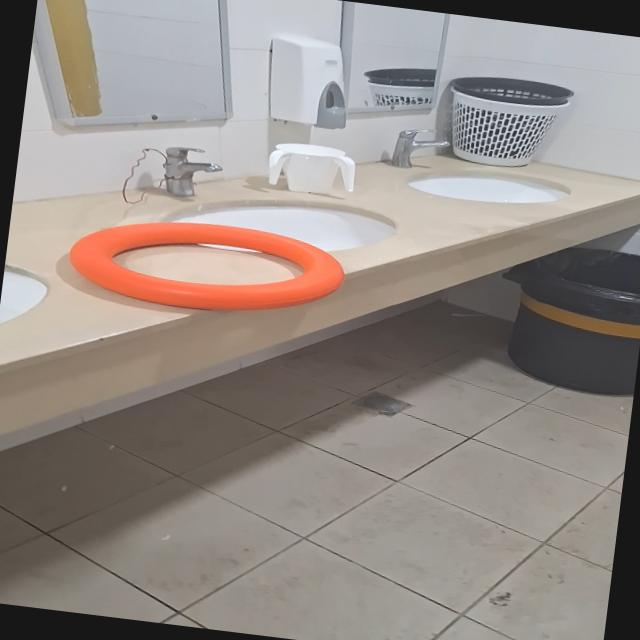note: (62, 205, 350, 328)
